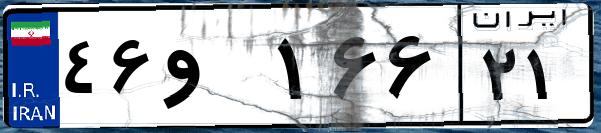1: (270, 28, 330, 110), (525, 38, 570, 115)
2: (475, 38, 525, 113)
4: (57, 26, 110, 100)
6: (385, 28, 445, 110), (330, 28, 385, 110), (110, 28, 158, 98)
و: (158, 20, 270, 120)
